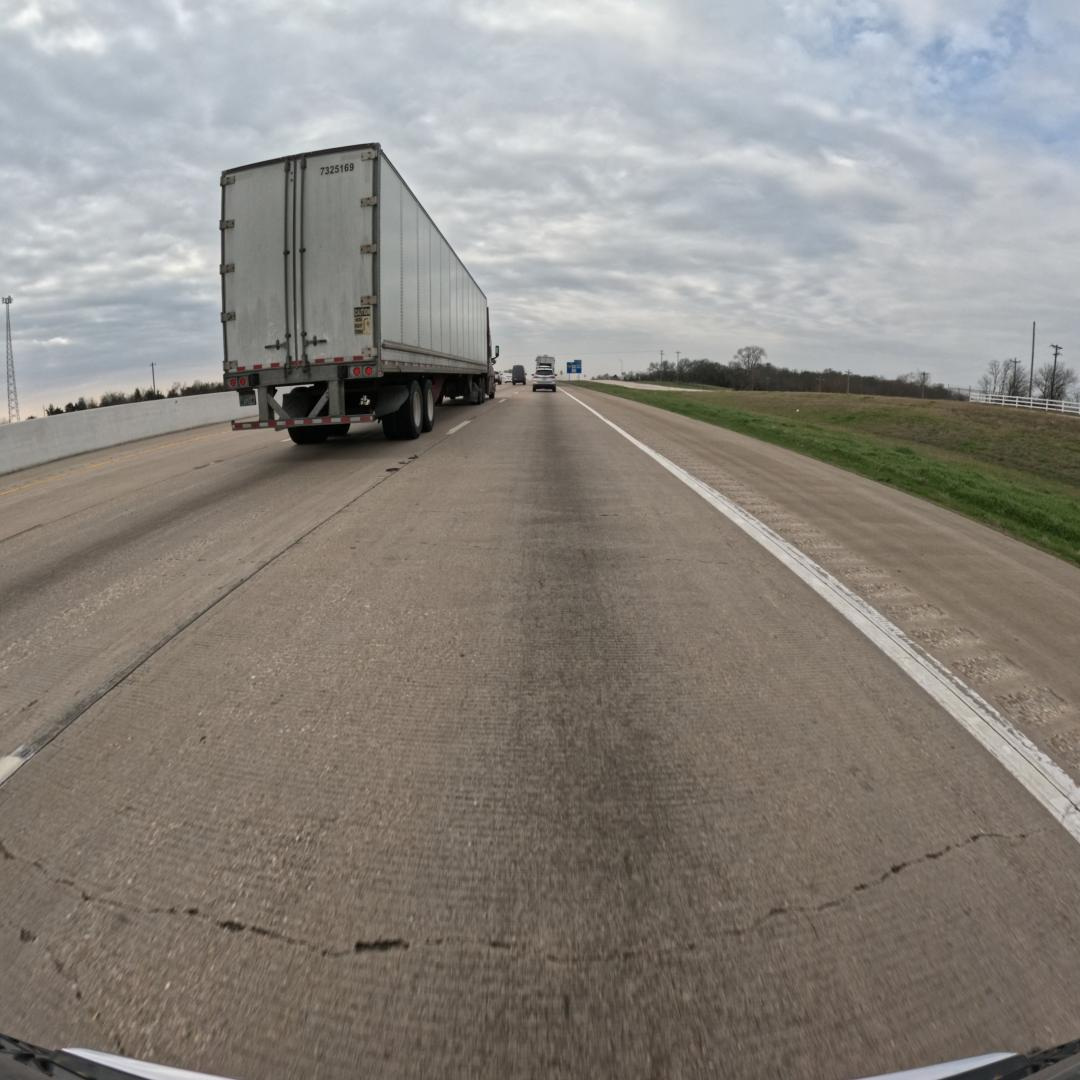lane-1: (0, 385, 523, 783)
lane0: (0, 389, 1080, 1080)
